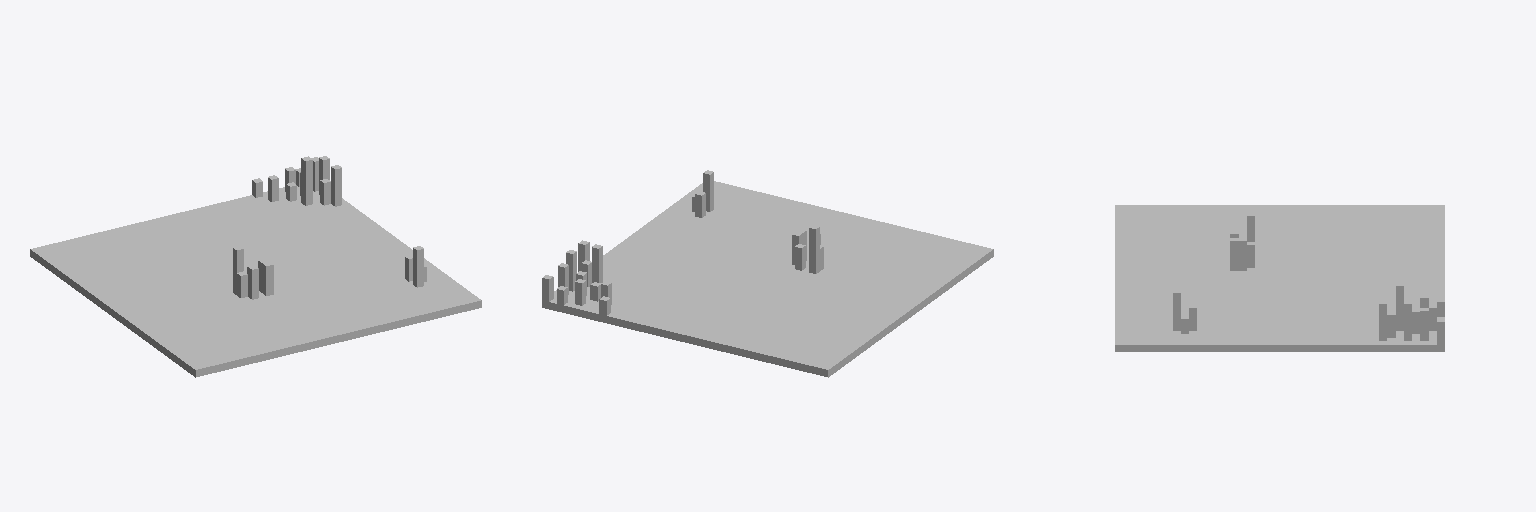
File: grass1.obj
3 renders of one model, left to right at view 1: azimuth 30°, elevation 25°; view 2: azimuth 150°, elevation 25°; view 3: azimuth 270°, elevation 25°, orthographic.
Parts seen in each view (by area): view 1: object 1; view 2: object 1; view 3: object 1.
Part boxes in pixels (x1,y1,x2,y2): object 1: (30,156,481,377); object 1: (542,170,993,377); object 1: (1115,205,1444,351).
Size of the model in its own units: 4 by 0.7 by 4.